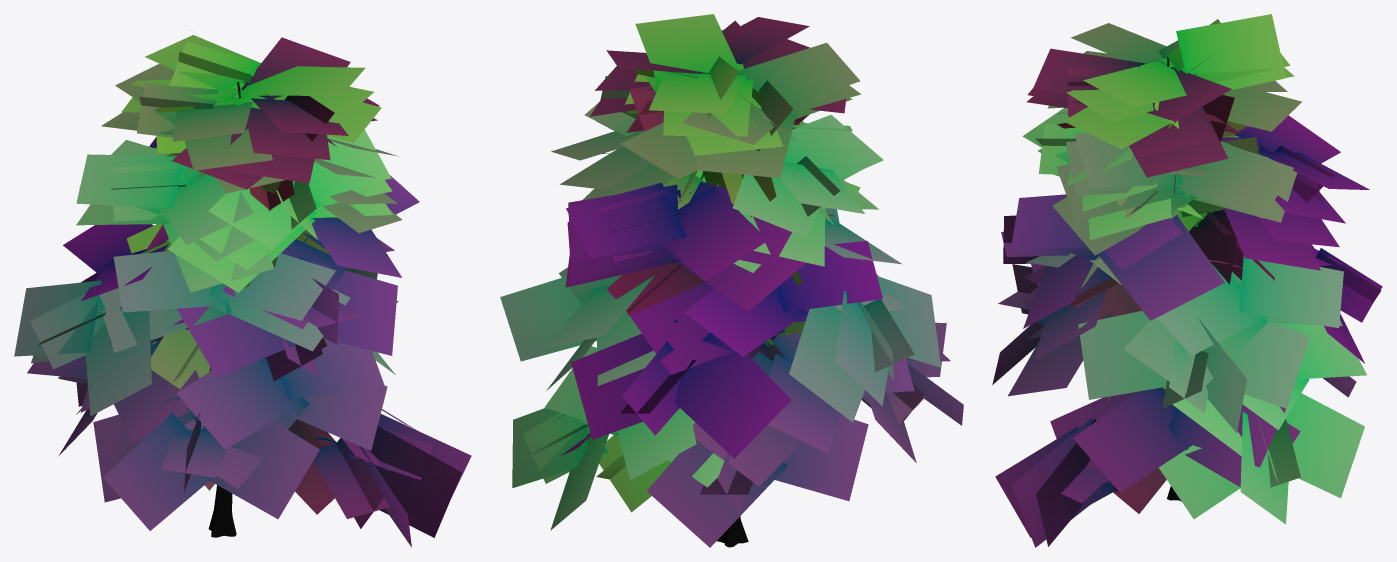
The model's file is Tree_1_4.fbx.
3 views of the same model, side by side, from view 1: azimuth 30°, elevation 25°; view 2: azimuth 150°, elevation 25°; view 3: azimuth 270°, elevation 25° (orthographic). The views are drawn at different scales.
Visible parts, largest first — view 1: _4; view 2: _4; view 3: _4.
Part boxes in pixels (x1=…): _4: x1=14, y1=29, x2=471, y2=547; _4: x1=500, y1=14, x2=963, y2=547; _4: x1=992, y1=14, x2=1382, y2=547.
Size of the model in its own units: 1228 by 1532 by 1132.
